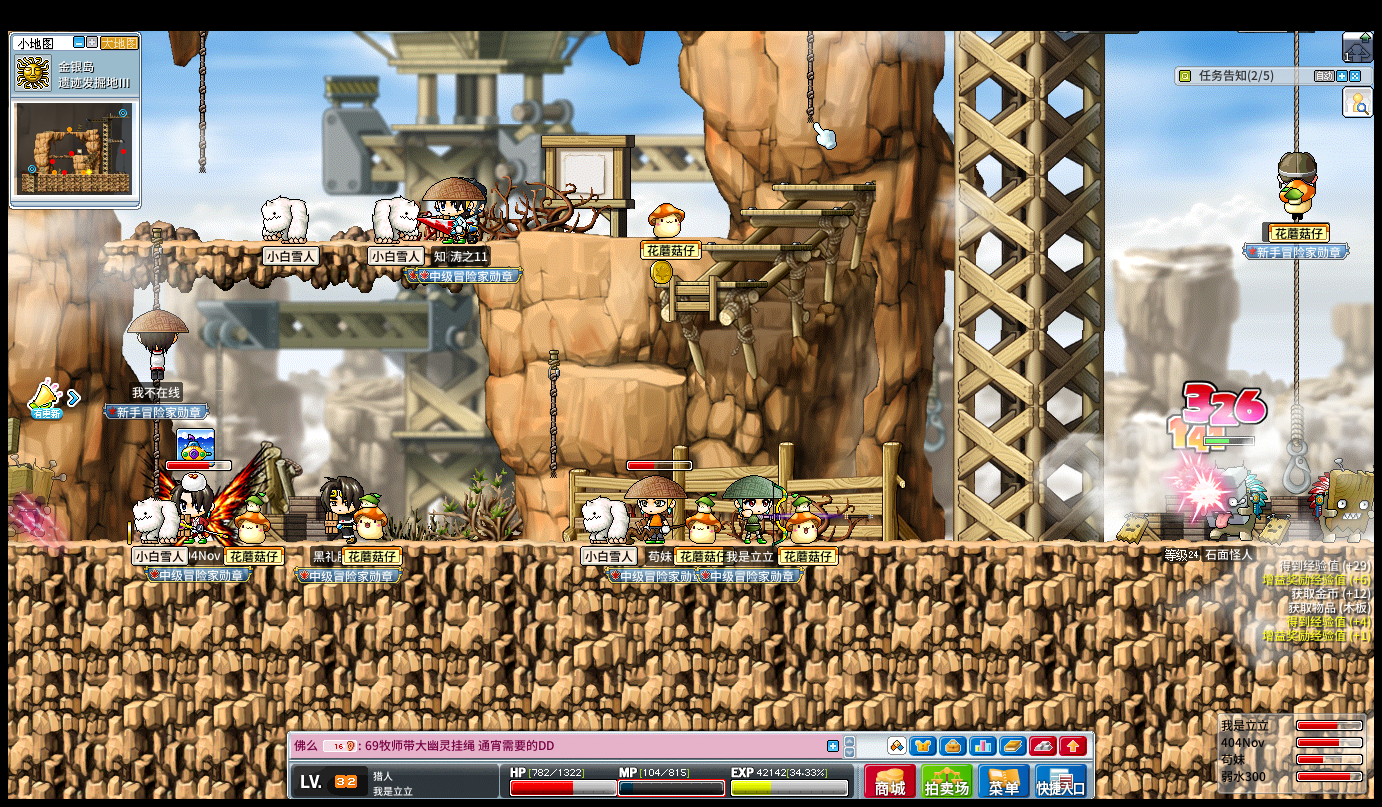floor: (101, 237, 471, 248), (578, 364, 688, 384), (649, 280, 764, 291), (738, 205, 852, 215), (601, 233, 736, 240), (648, 279, 765, 287), (699, 243, 809, 251), (736, 207, 848, 214), (771, 184, 875, 191)
monster: (1187, 467, 1268, 541), (1308, 463, 1376, 543), (7, 456, 60, 541), (1218, 467, 1268, 540), (8, 481, 56, 540)
rope: (546, 350, 561, 482), (1291, 257, 1302, 409), (198, 31, 207, 174), (150, 227, 162, 309), (804, 29, 813, 123), (1292, 29, 1299, 148), (149, 420, 158, 492), (1290, 407, 1304, 443)
